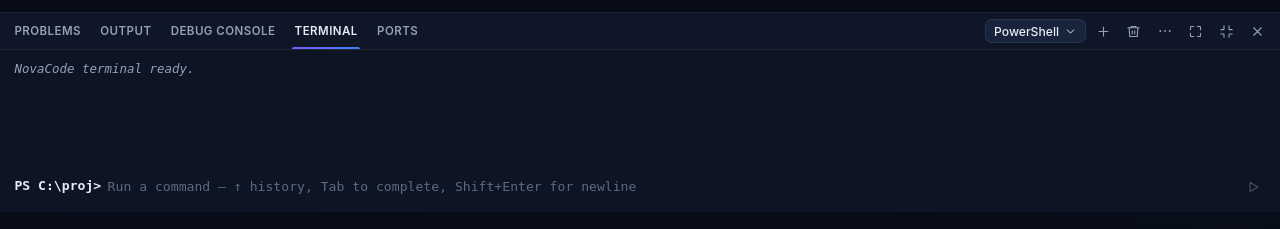
Test: TerminalPanel menu › opens the terminal actions menu and runs a command
Click the button named "Terminal actions" at {"x": 1165, "y": 31}, box x1=1151 y1=17 x2=1179 y2=45
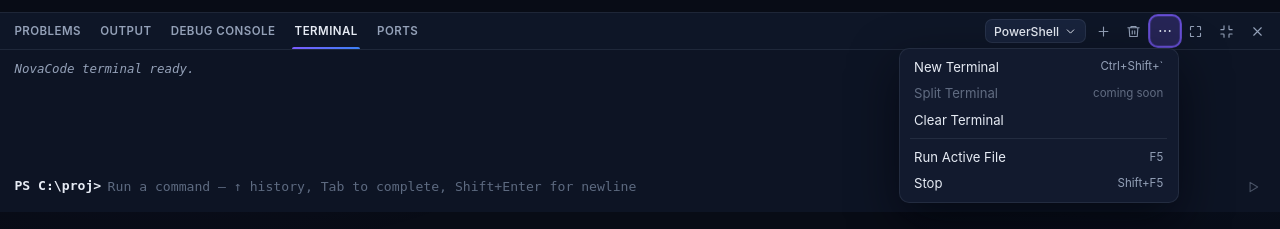
Click the menu item "Clear Terminal" at {"x": 959, "y": 120}, box x1=904 y1=107 x2=1173 y2=134
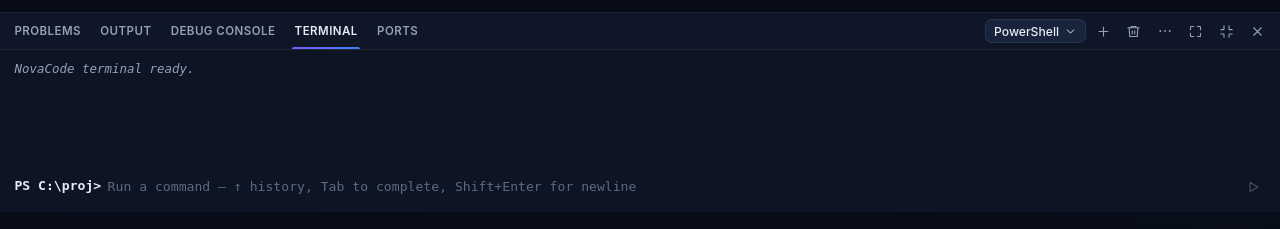
Now the menu is gone
